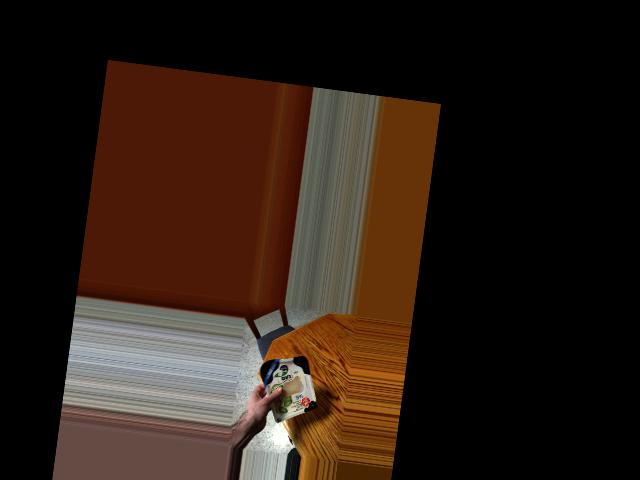cheese: (257, 348, 321, 415)
